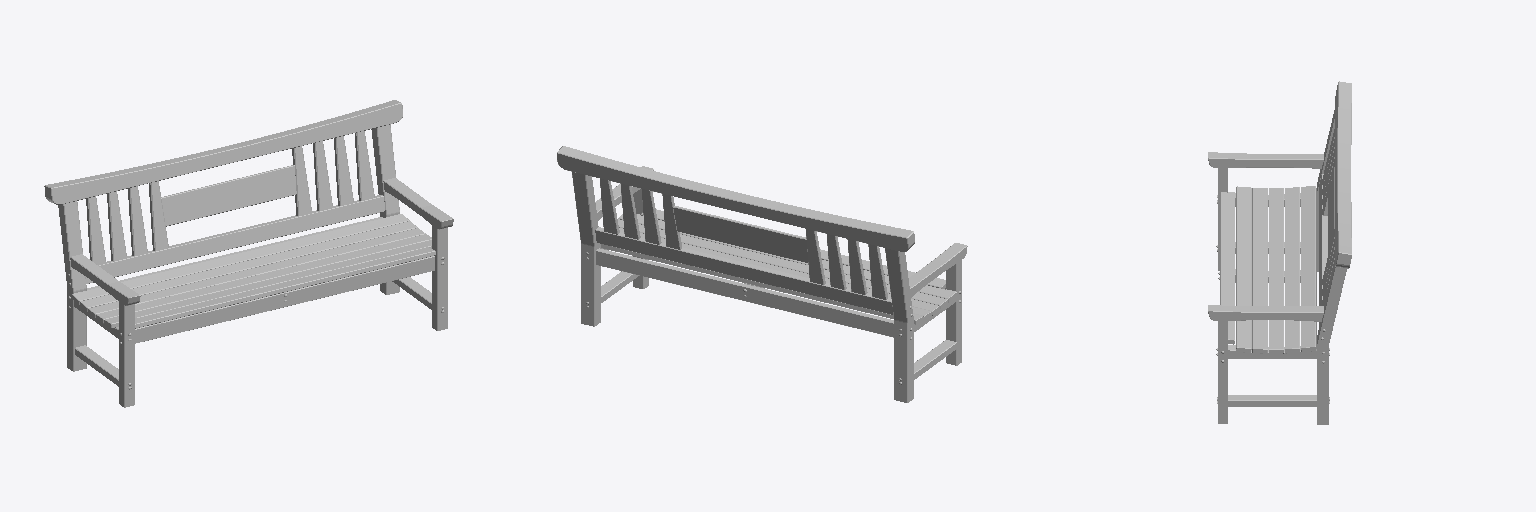
Rendered from bench.obj.
3 renders of one model, left to right at view 1: azimuth 30°, elevation 25°; view 2: azimuth 150°, elevation 25°; view 3: azimuth 270°, elevation 25°, orthographic.
Visible parts, largest first — view 1: Bench; view 2: Bench; view 3: Bench.
Boxes of the visible parts, x1=… form: Bench: x1=44, y1=100, x2=453, y2=407; Bench: x1=557, y1=146, x2=967, y2=402; Bench: x1=1208, y1=81, x2=1351, y2=424.
Size of the model in its own units: 8.98 by 4.35 by 3.2.